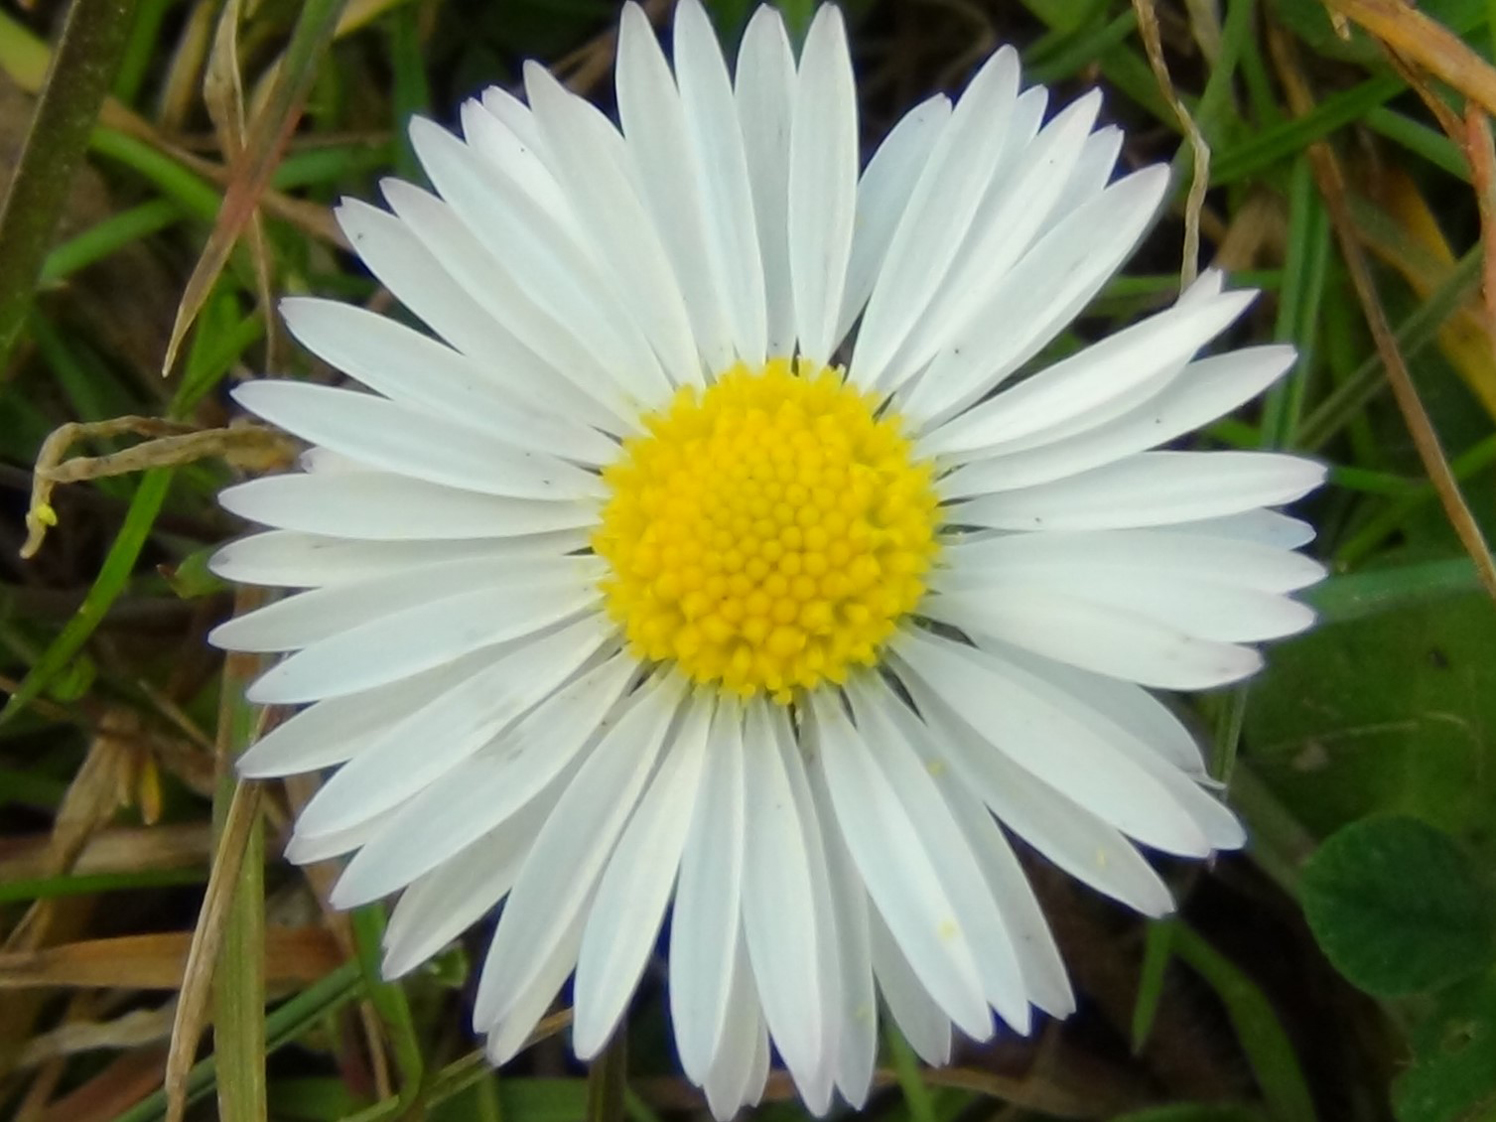Daisy: (208, 4, 1322, 1080)
